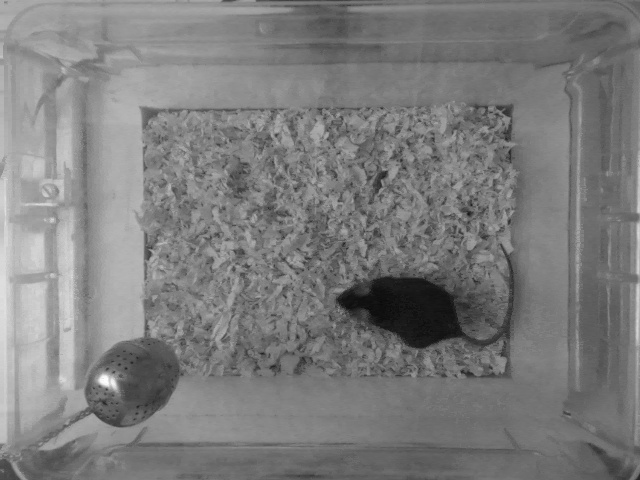mice: (334, 236, 535, 358)
